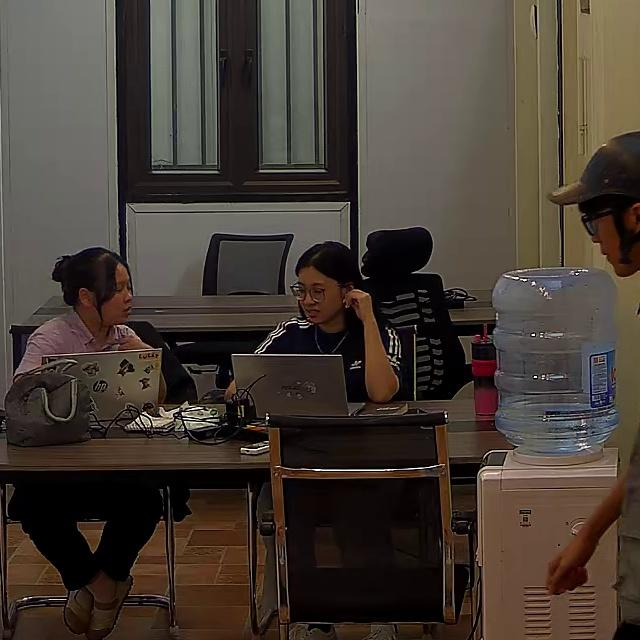helmet: (557, 133, 640, 209)
no_helmet: (52, 246, 134, 311), (294, 240, 364, 298)
none: (250, 314, 405, 404), (13, 311, 145, 384)
